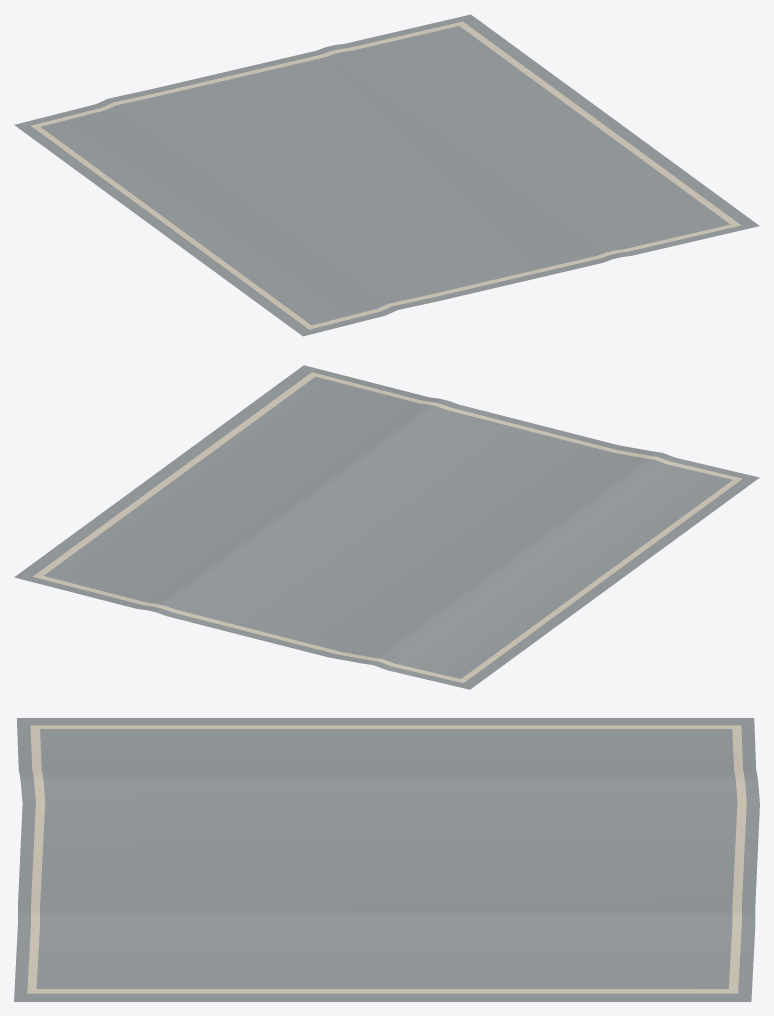
Rendered from pk_rug_cream.glb.
3 renders of one model, top to bottom at view 1: azimuth 30°, elevation 25°; view 2: azimuth 150°, elevation 25°; view 3: azimuth 270°, elevation 25°, orthographic. The views are drawn at different scales.
Parts seen in each view (by area): view 1: pk_rug_cream; view 2: pk_rug_cream; view 3: pk_rug_cream.
Boxes of the visible parts, box(x1,y1,x2,y2) form: pk_rug_cream: box(14, 14, 759, 336); pk_rug_cream: box(14, 365, 759, 689); pk_rug_cream: box(14, 718, 759, 1001).
Bounding box in the file's own units: 2.7 × 0.012 × 3.
Materials: 1 (1 with a texture image).
